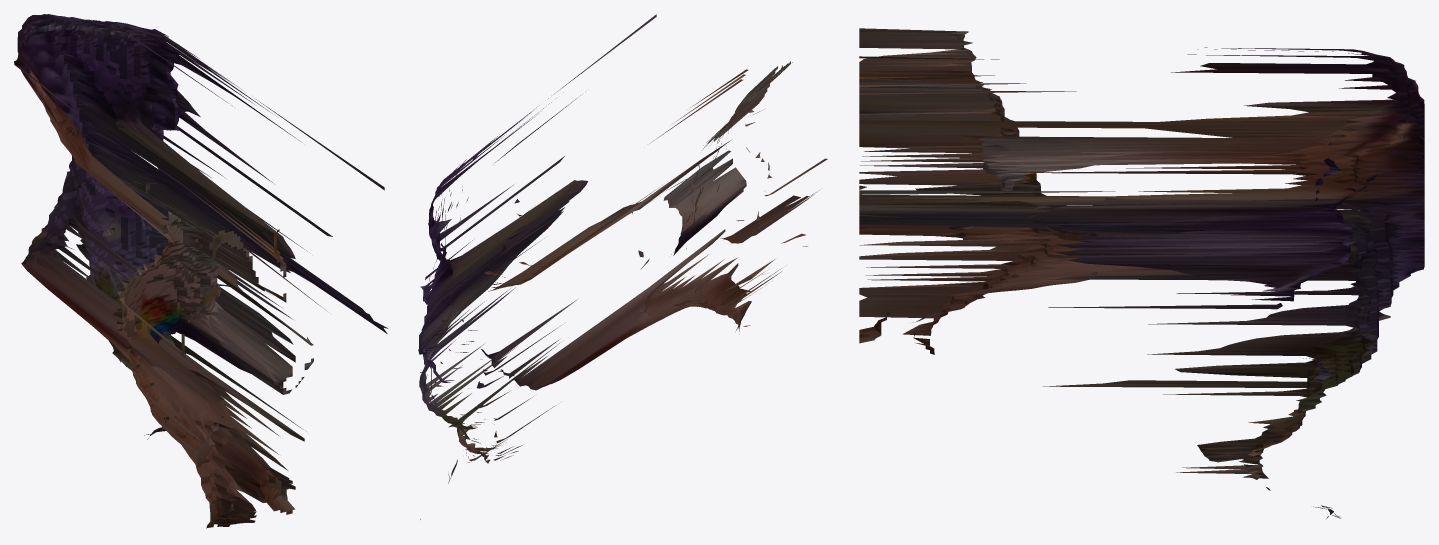
The model's file is frame_00281.glb.
The picture shows the model from 3 angles, left to right: view 1: azimuth 30°, elevation 25°; view 2: azimuth 150°, elevation 25°; view 3: azimuth 270°, elevation 25°; orthographic projection. The views are drawn at different scales.
Parts seen in each view (by area): view 1: geometry_0; view 2: geometry_0; view 3: geometry_0.
Part boxes in pixels (x1=…): geometry_0: x1=14, y1=14, x2=388, y2=528; geometry_0: x1=418, y1=14, x2=827, y2=519; geometry_0: x1=859, y1=28, x2=1424, y2=518.
Bounding box in the file's own units: 0.0822 × 0.1325 × 0.16.
Materials: 1 (1 with a texture image).
